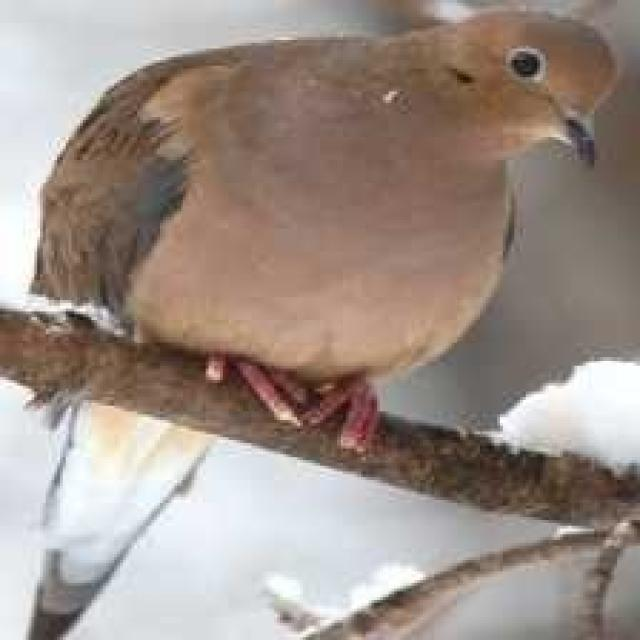dove: (38, 11, 624, 636)
